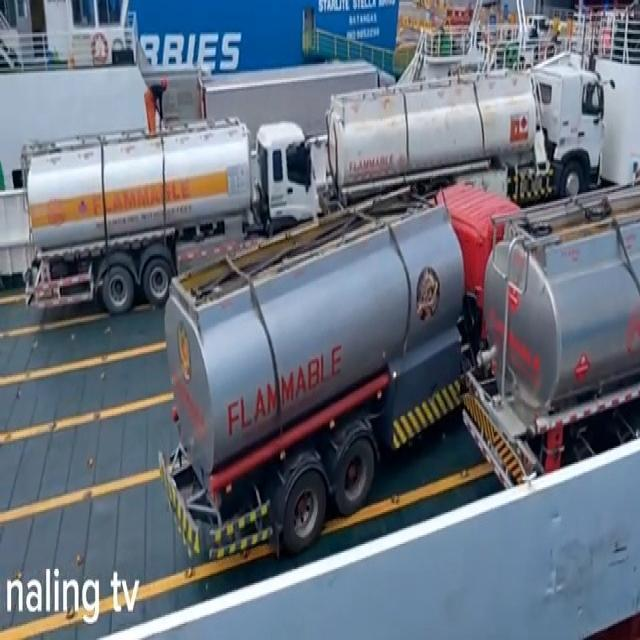truck: (158, 180, 522, 562), (22, 117, 316, 317), (461, 176, 640, 496), (327, 54, 605, 212), (197, 58, 401, 142)
